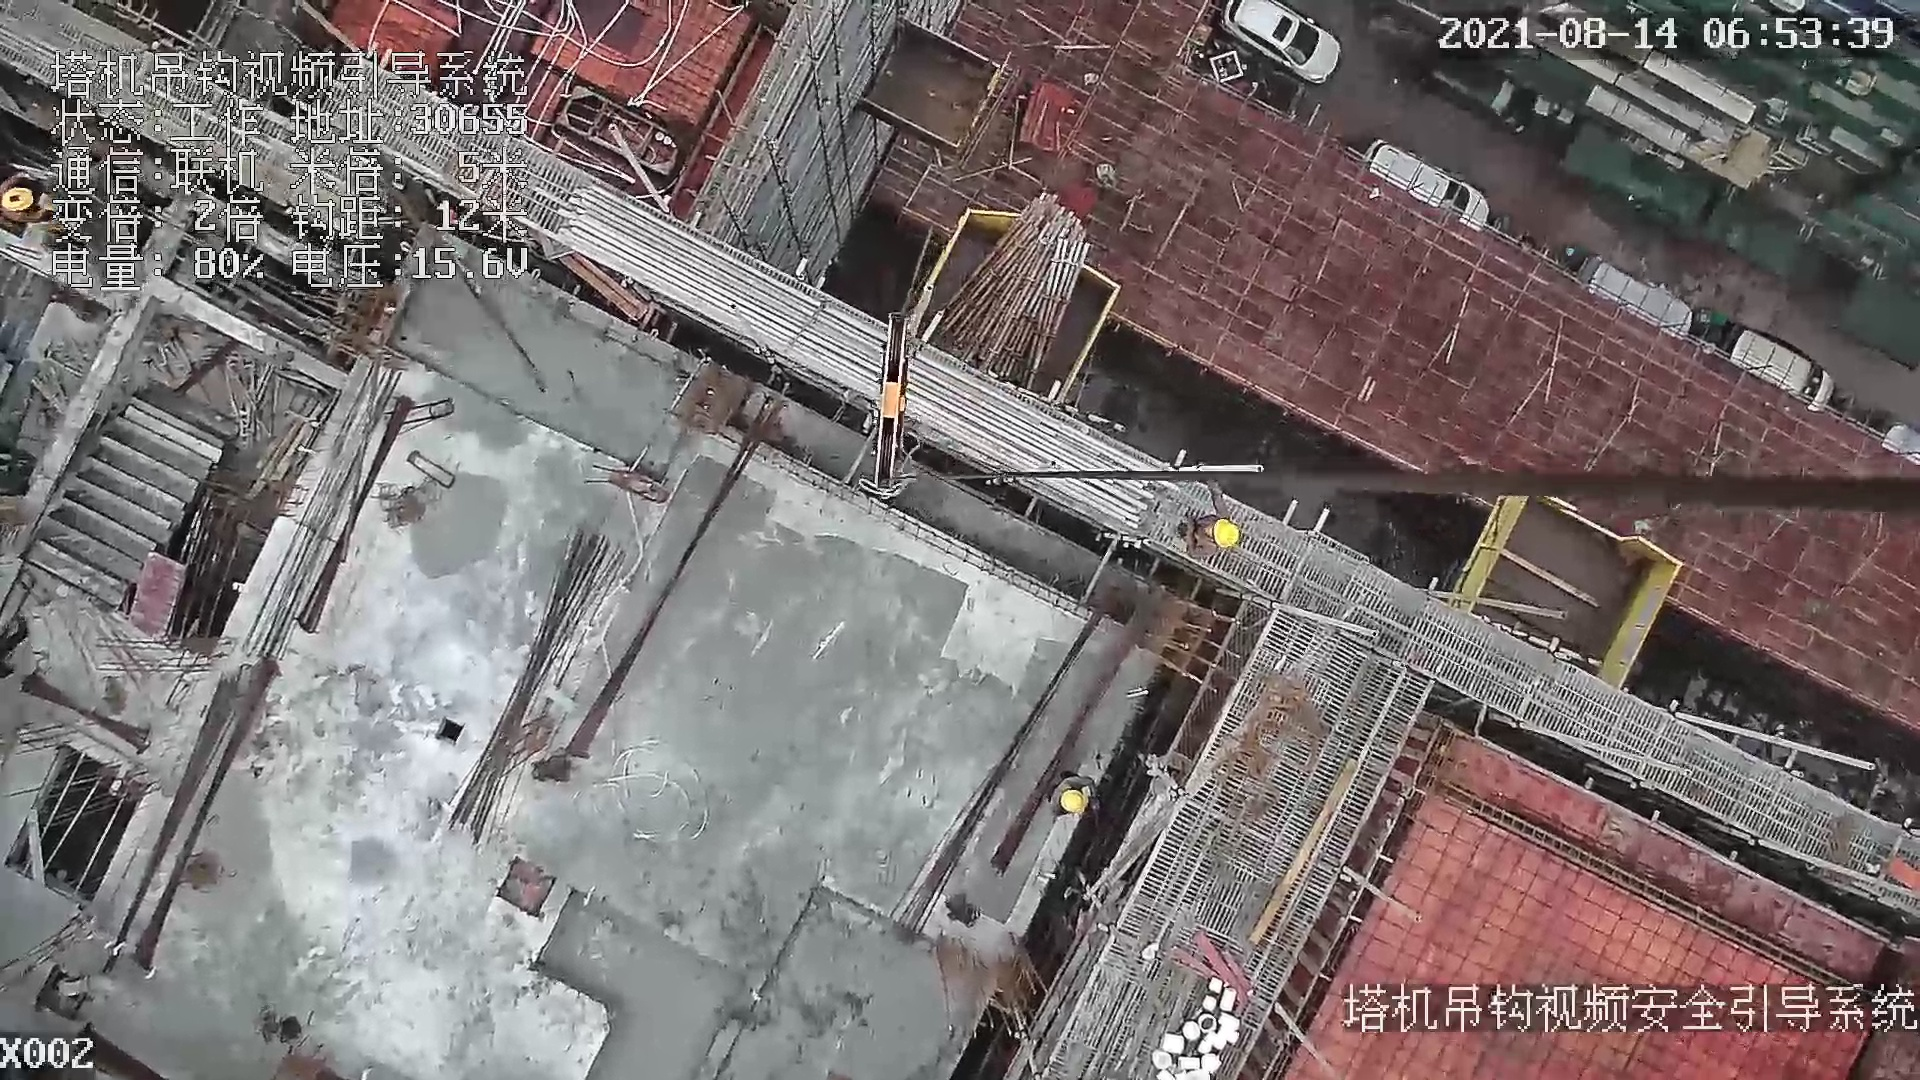helmet: (1212, 517, 1238, 548), (2, 187, 34, 211), (1059, 789, 1085, 813)
hook: (846, 310, 932, 489)
person: (1172, 477, 1240, 563), (1047, 771, 1105, 824)
rebar: (554, 182, 1163, 532), (449, 534, 630, 847)
scaffold: (937, 191, 1091, 394)
